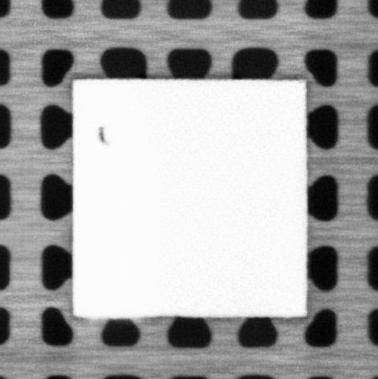DIE_INK: (97, 123, 106, 146)
